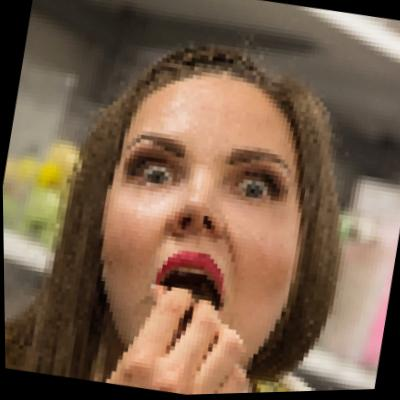surprise: (78, 63, 326, 379)
